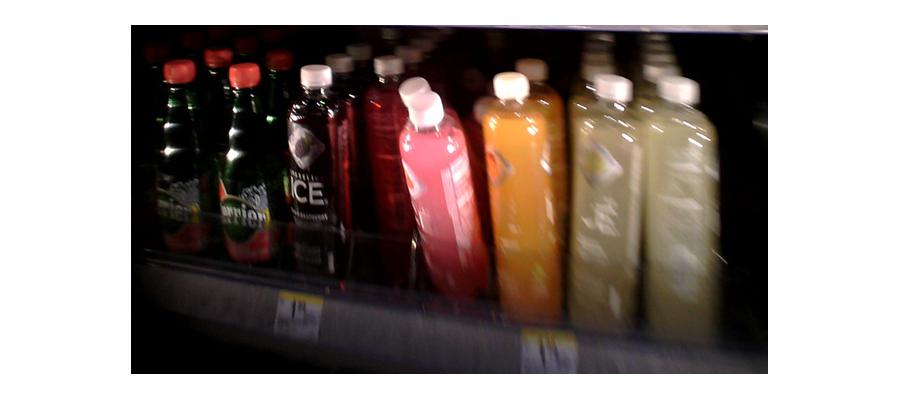bottle: (478, 78, 566, 325), (642, 89, 722, 345), (399, 79, 485, 303), (572, 84, 643, 335), (281, 62, 348, 286), (219, 79, 281, 266), (155, 68, 210, 270)
